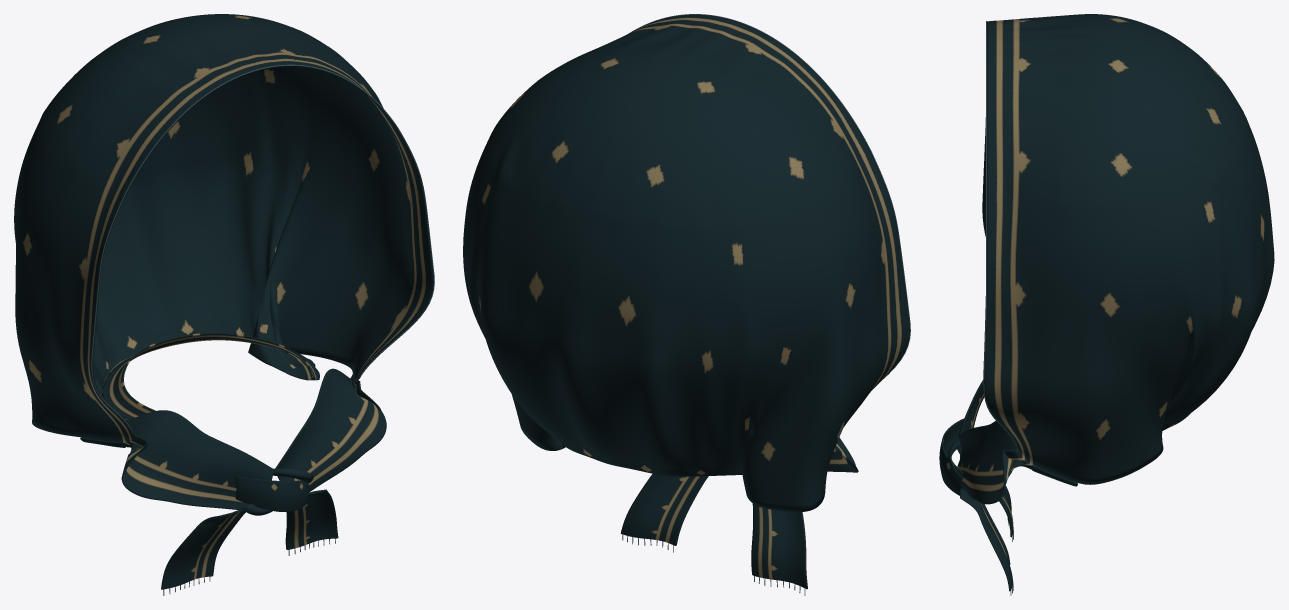
The model's file is Feminine-pashmina-headgear.glb.
3 renders of one model, left to right at view 1: azimuth 30°, elevation 25°; view 2: azimuth 150°, elevation 25°; view 3: azimuth 270°, elevation 25°, orthographic. The views are drawn at different scales.
Parts seen in each view (by area): view 1: 226 headgear / Headwear / continuous woven pashmina235, 226 headgear / Headwear / gathered scarf edge235; view 2: 226 headgear / Headwear / continuous woven pashmina235, 226 headgear / Headwear / gathered scarf edge235; view 3: 226 headgear / Headwear / continuous woven pashmina235, 226 headgear / Headwear / gathered scarf edge235.
Part boxes in pixels (x1,y1,x2,y2): 226 headgear / Headwear / continuous woven pashmina235: [14, 14, 433, 589]; 226 headgear / Headwear / gathered scarf edge235: [91, 64, 434, 434]; 226 headgear / Headwear / continuous woven pashmina235: [463, 14, 909, 589]; 226 headgear / Headwear / gathered scarf edge235: [628, 14, 910, 378]; 226 headgear / Headwear / continuous woven pashmina235: [939, 14, 1274, 591]; 226 headgear / Headwear / gathered scarf edge235: [983, 21, 1018, 450].
Size of the model in its own units: 1.02 by 1.43 by 0.8171.
Materials: 3 (1 with a texture image).
